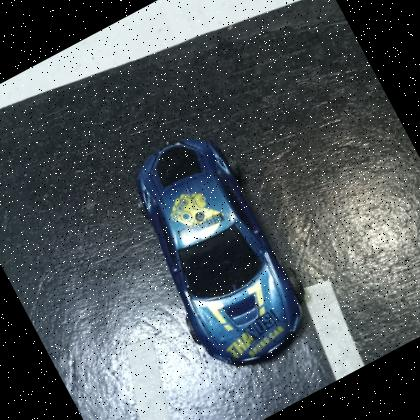Car: (139, 138, 303, 368)
